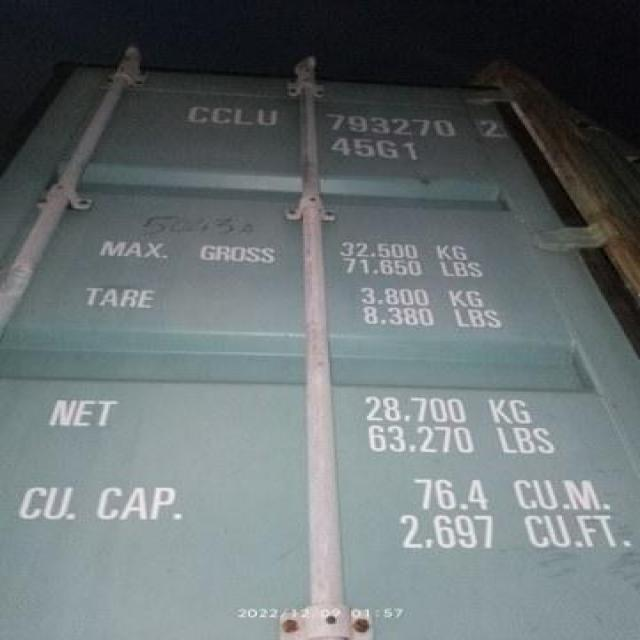container_number_h: (166, 79, 545, 195)
